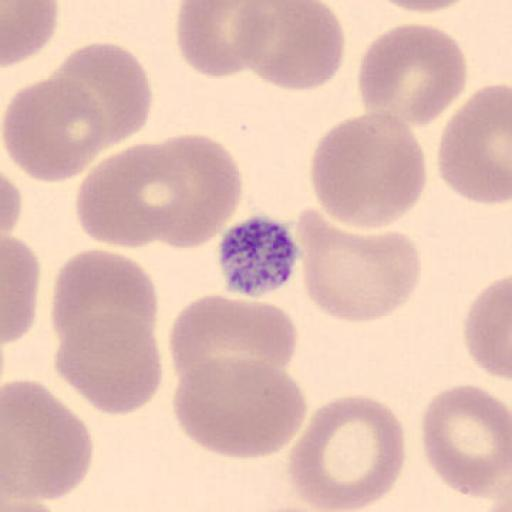Platelet: (216, 212, 302, 298)
RBC: (296, 204, 424, 324), (174, 354, 308, 461), (308, 112, 427, 232), (167, 293, 298, 402), (287, 393, 407, 511), (50, 248, 160, 366), (137, 129, 244, 250), (355, 21, 468, 130), (74, 141, 182, 250), (53, 310, 163, 416), (3, 378, 94, 504), (48, 42, 154, 148), (2, 76, 106, 184), (420, 383, 512, 499), (234, 0, 346, 92), (438, 81, 512, 205), (175, 0, 266, 79), (462, 274, 512, 382), (0, 232, 40, 346), (2, 0, 58, 69), (483, 451, 512, 511), (1, 172, 23, 241), (0, 489, 64, 512), (376, 1, 476, 15), (0, 497, 68, 511)
